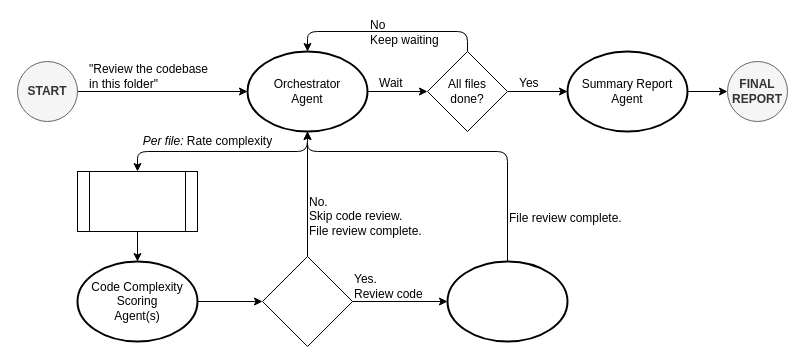
This 805x364 diagram has some shape labels left out. Each missing label, with the centre of its shape:
Code Review Agent(s): pixel 507 301
Static Code Analysis: pixel 137 201
Too complex file?: pixel 307 301
